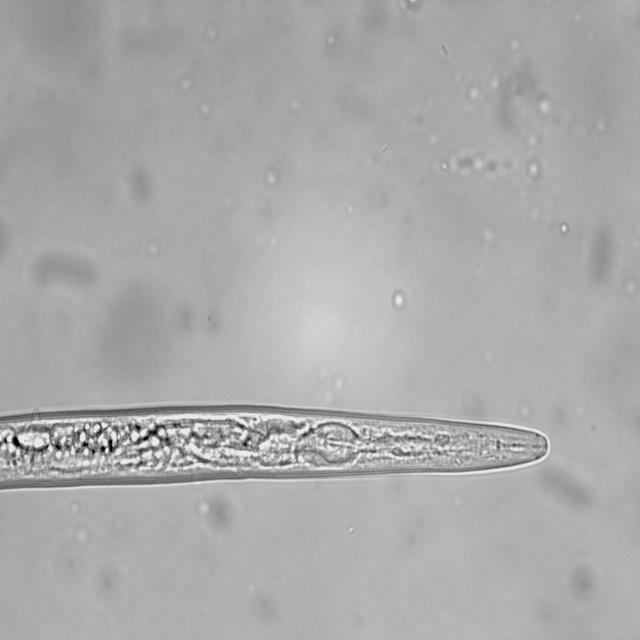Meloidogyne: (0, 408, 556, 493)
